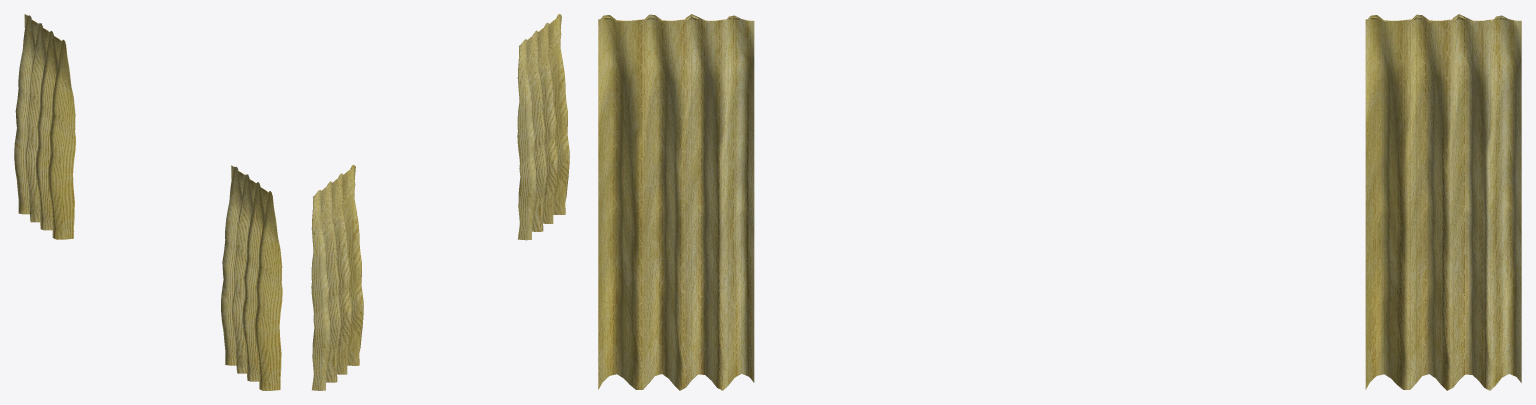
The model's file is cortinas.glb.
3 views of the same model, side by side, from view 1: azimuth 30°, elevation 25°; view 2: azimuth 150°, elevation 25°; view 3: azimuth 270°, elevation 25° (orthographic). The views are drawn at different scales.
Visible parts, largest first — view 1: pasted__Cortina3_pasted__CurtainTexture_0.001, pasted__Cortina3_pasted__CurtainTexture_0; view 2: pasted__Cortina3_pasted__CurtainTexture_0.001, pasted__Cortina3_pasted__CurtainTexture_0; view 3: pasted__Cortina3_pasted__CurtainTexture_0.001, pasted__Cortina3_pasted__CurtainTexture_0.
Boxes of the visible parts, box(x1,y1,x2,y2) form: pasted__Cortina3_pasted__CurtainTexture_0.001: box(14, 14, 75, 239); pasted__Cortina3_pasted__CurtainTexture_0: box(221, 165, 282, 390); pasted__Cortina3_pasted__CurtainTexture_0.001: box(311, 165, 363, 390); pasted__Cortina3_pasted__CurtainTexture_0: box(517, 14, 569, 240); pasted__Cortina3_pasted__CurtainTexture_0.001: box(1365, 14, 1521, 390); pasted__Cortina3_pasted__CurtainTexture_0: box(598, 14, 754, 390).
Bounding box in the file's own units: 1.67 × 13.05 × 29.58.
Materials: 2 (2 with a texture image).
